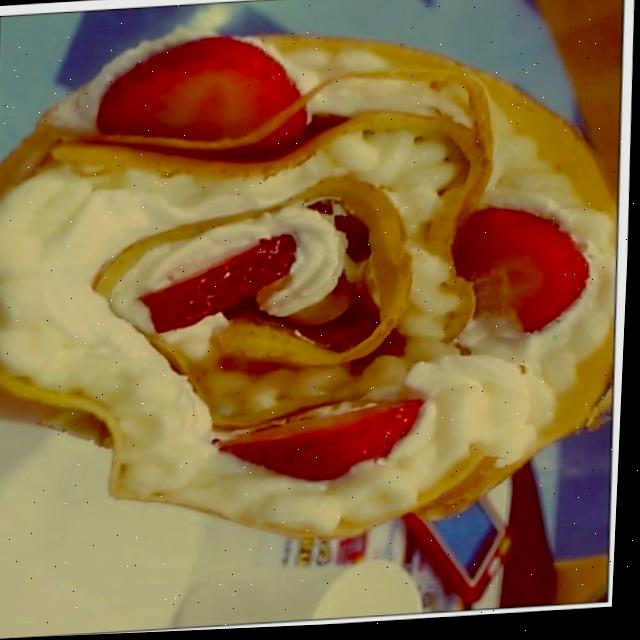蛋糕甜品: (0, 18, 620, 576)
